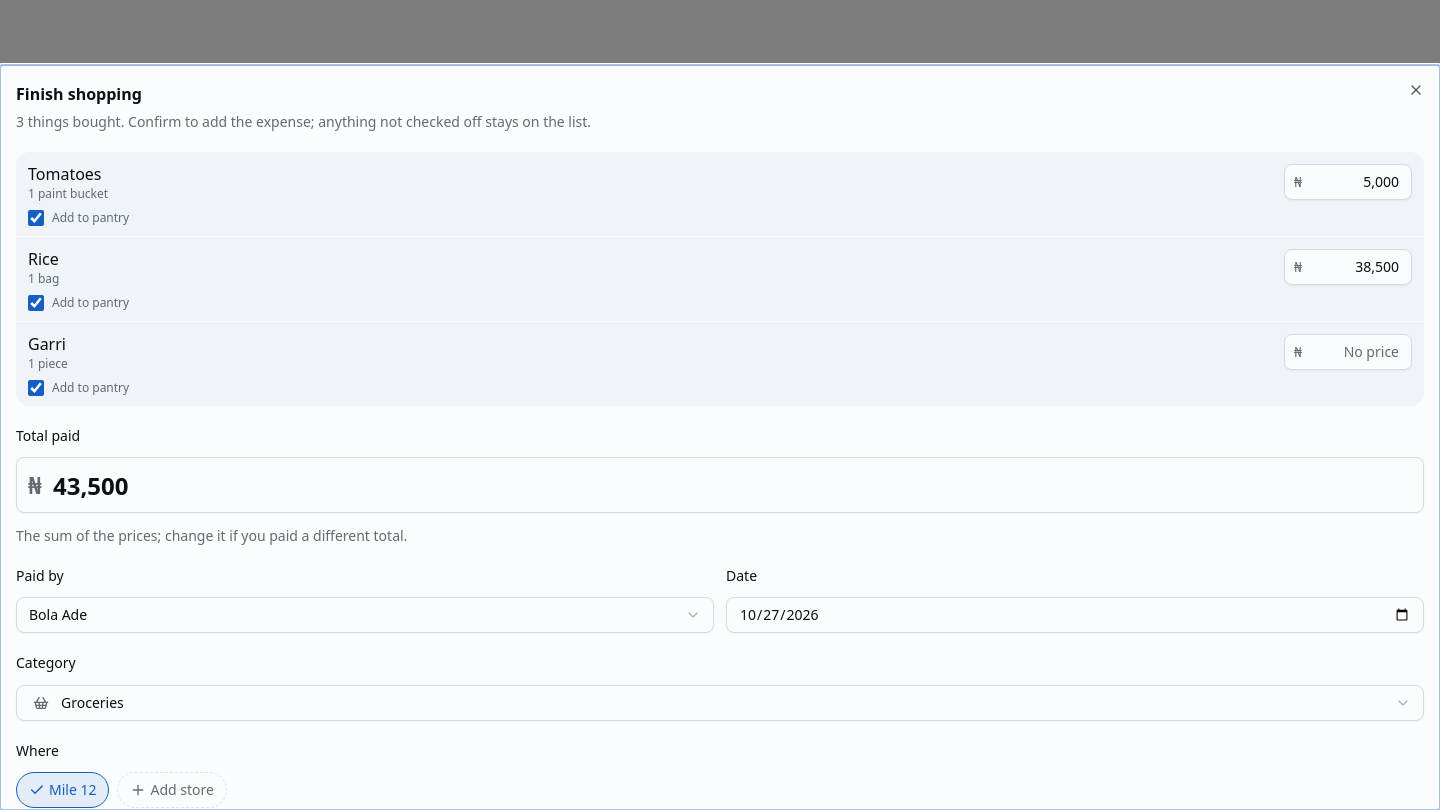
Test case: FinishShoppingSheet › keeps following the prices until the total is changed by hand
The image size is (1440, 810).
Replace the text in the field named "Price paid for Tomatoes" with "6000": (1348, 182) [1284, 164, 1412, 200]
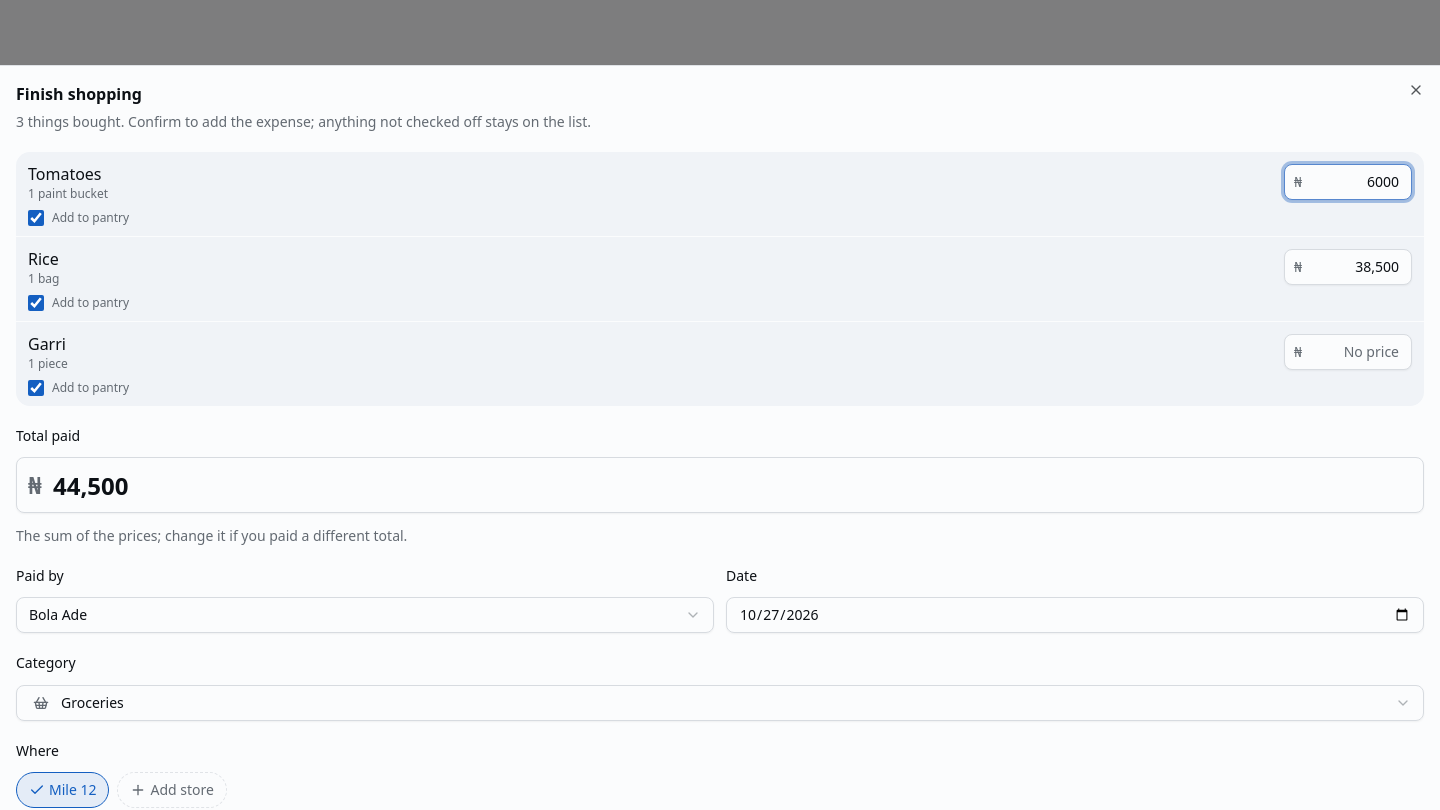
Check: the field labelled "Total paid" holds "44,500", box [16, 457, 1424, 513]
